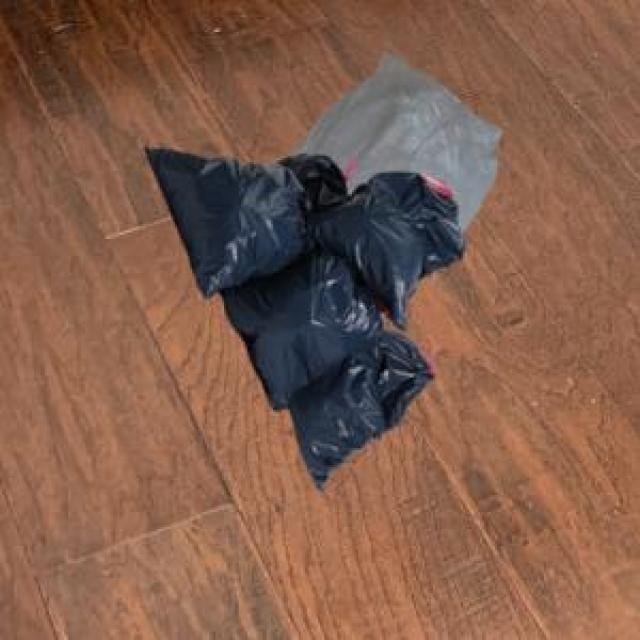miscellaneous trash: (142, 143, 461, 486)
